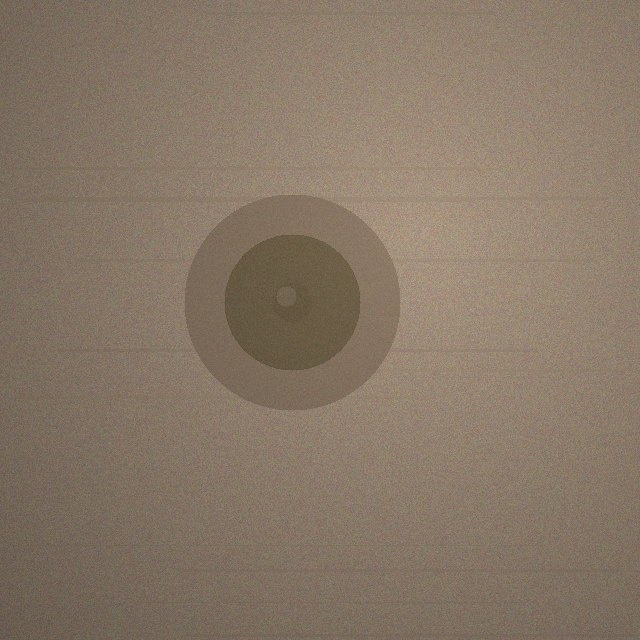good: (184, 194, 400, 410)
